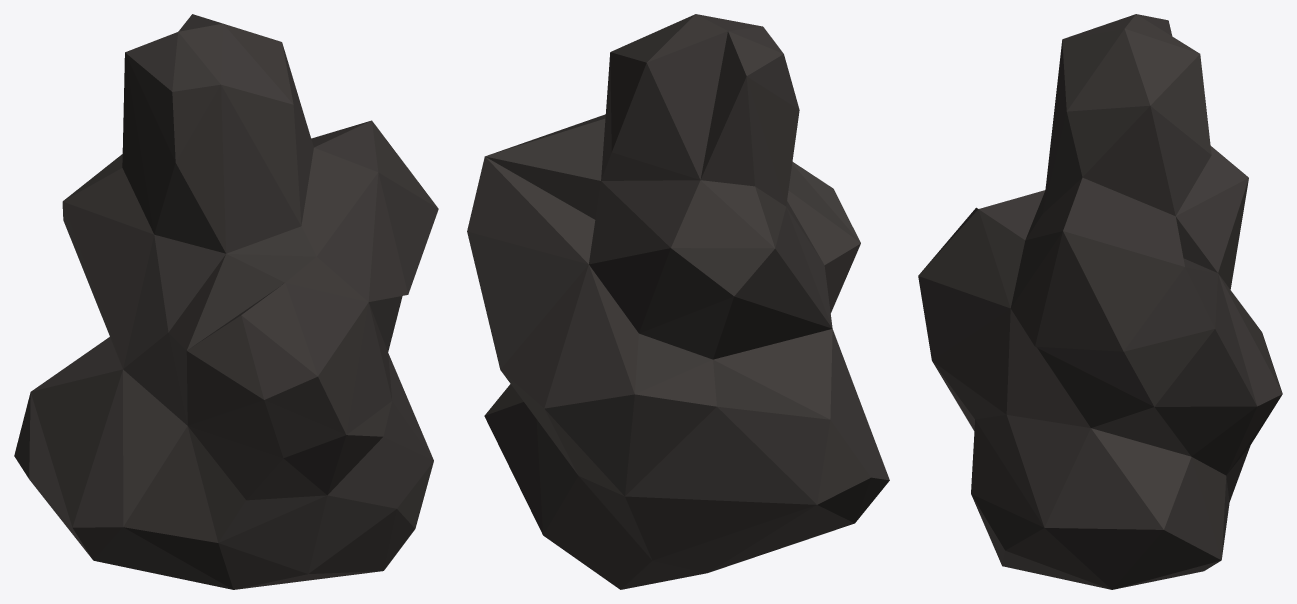
Rendered from Rock_1_LOD_1.fbx.
3 renders of one model, left to right at view 1: azimuth 30°, elevation 25°; view 2: azimuth 150°, elevation 25°; view 3: azimuth 270°, elevation 25°, orthographic. The views are drawn at different scales.
Parts seen in each view (by area): view 1: Group5095; view 2: Group5095; view 3: Group5095.
Part boxes in pixels (box(x1,y1,x2,y2)): Group5095: box(14, 14, 438, 589); Group5095: box(467, 14, 889, 589); Group5095: box(918, 14, 1282, 589).
Size of the model in its own units: 6.35 by 8.47 by 5.31.
